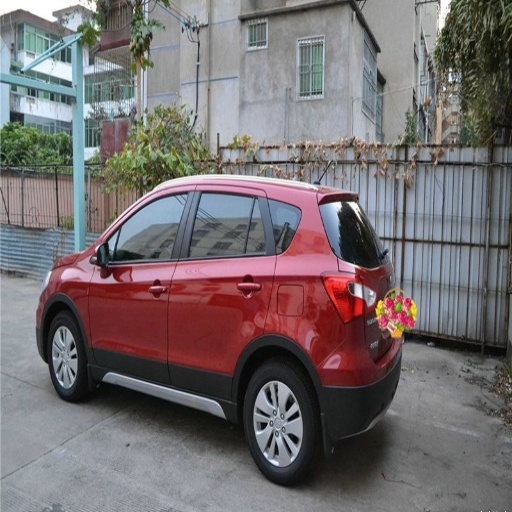back_bumper: (319, 343, 398, 445)
back_glass: (335, 209, 376, 265)
back_left_door: (169, 184, 274, 399)
